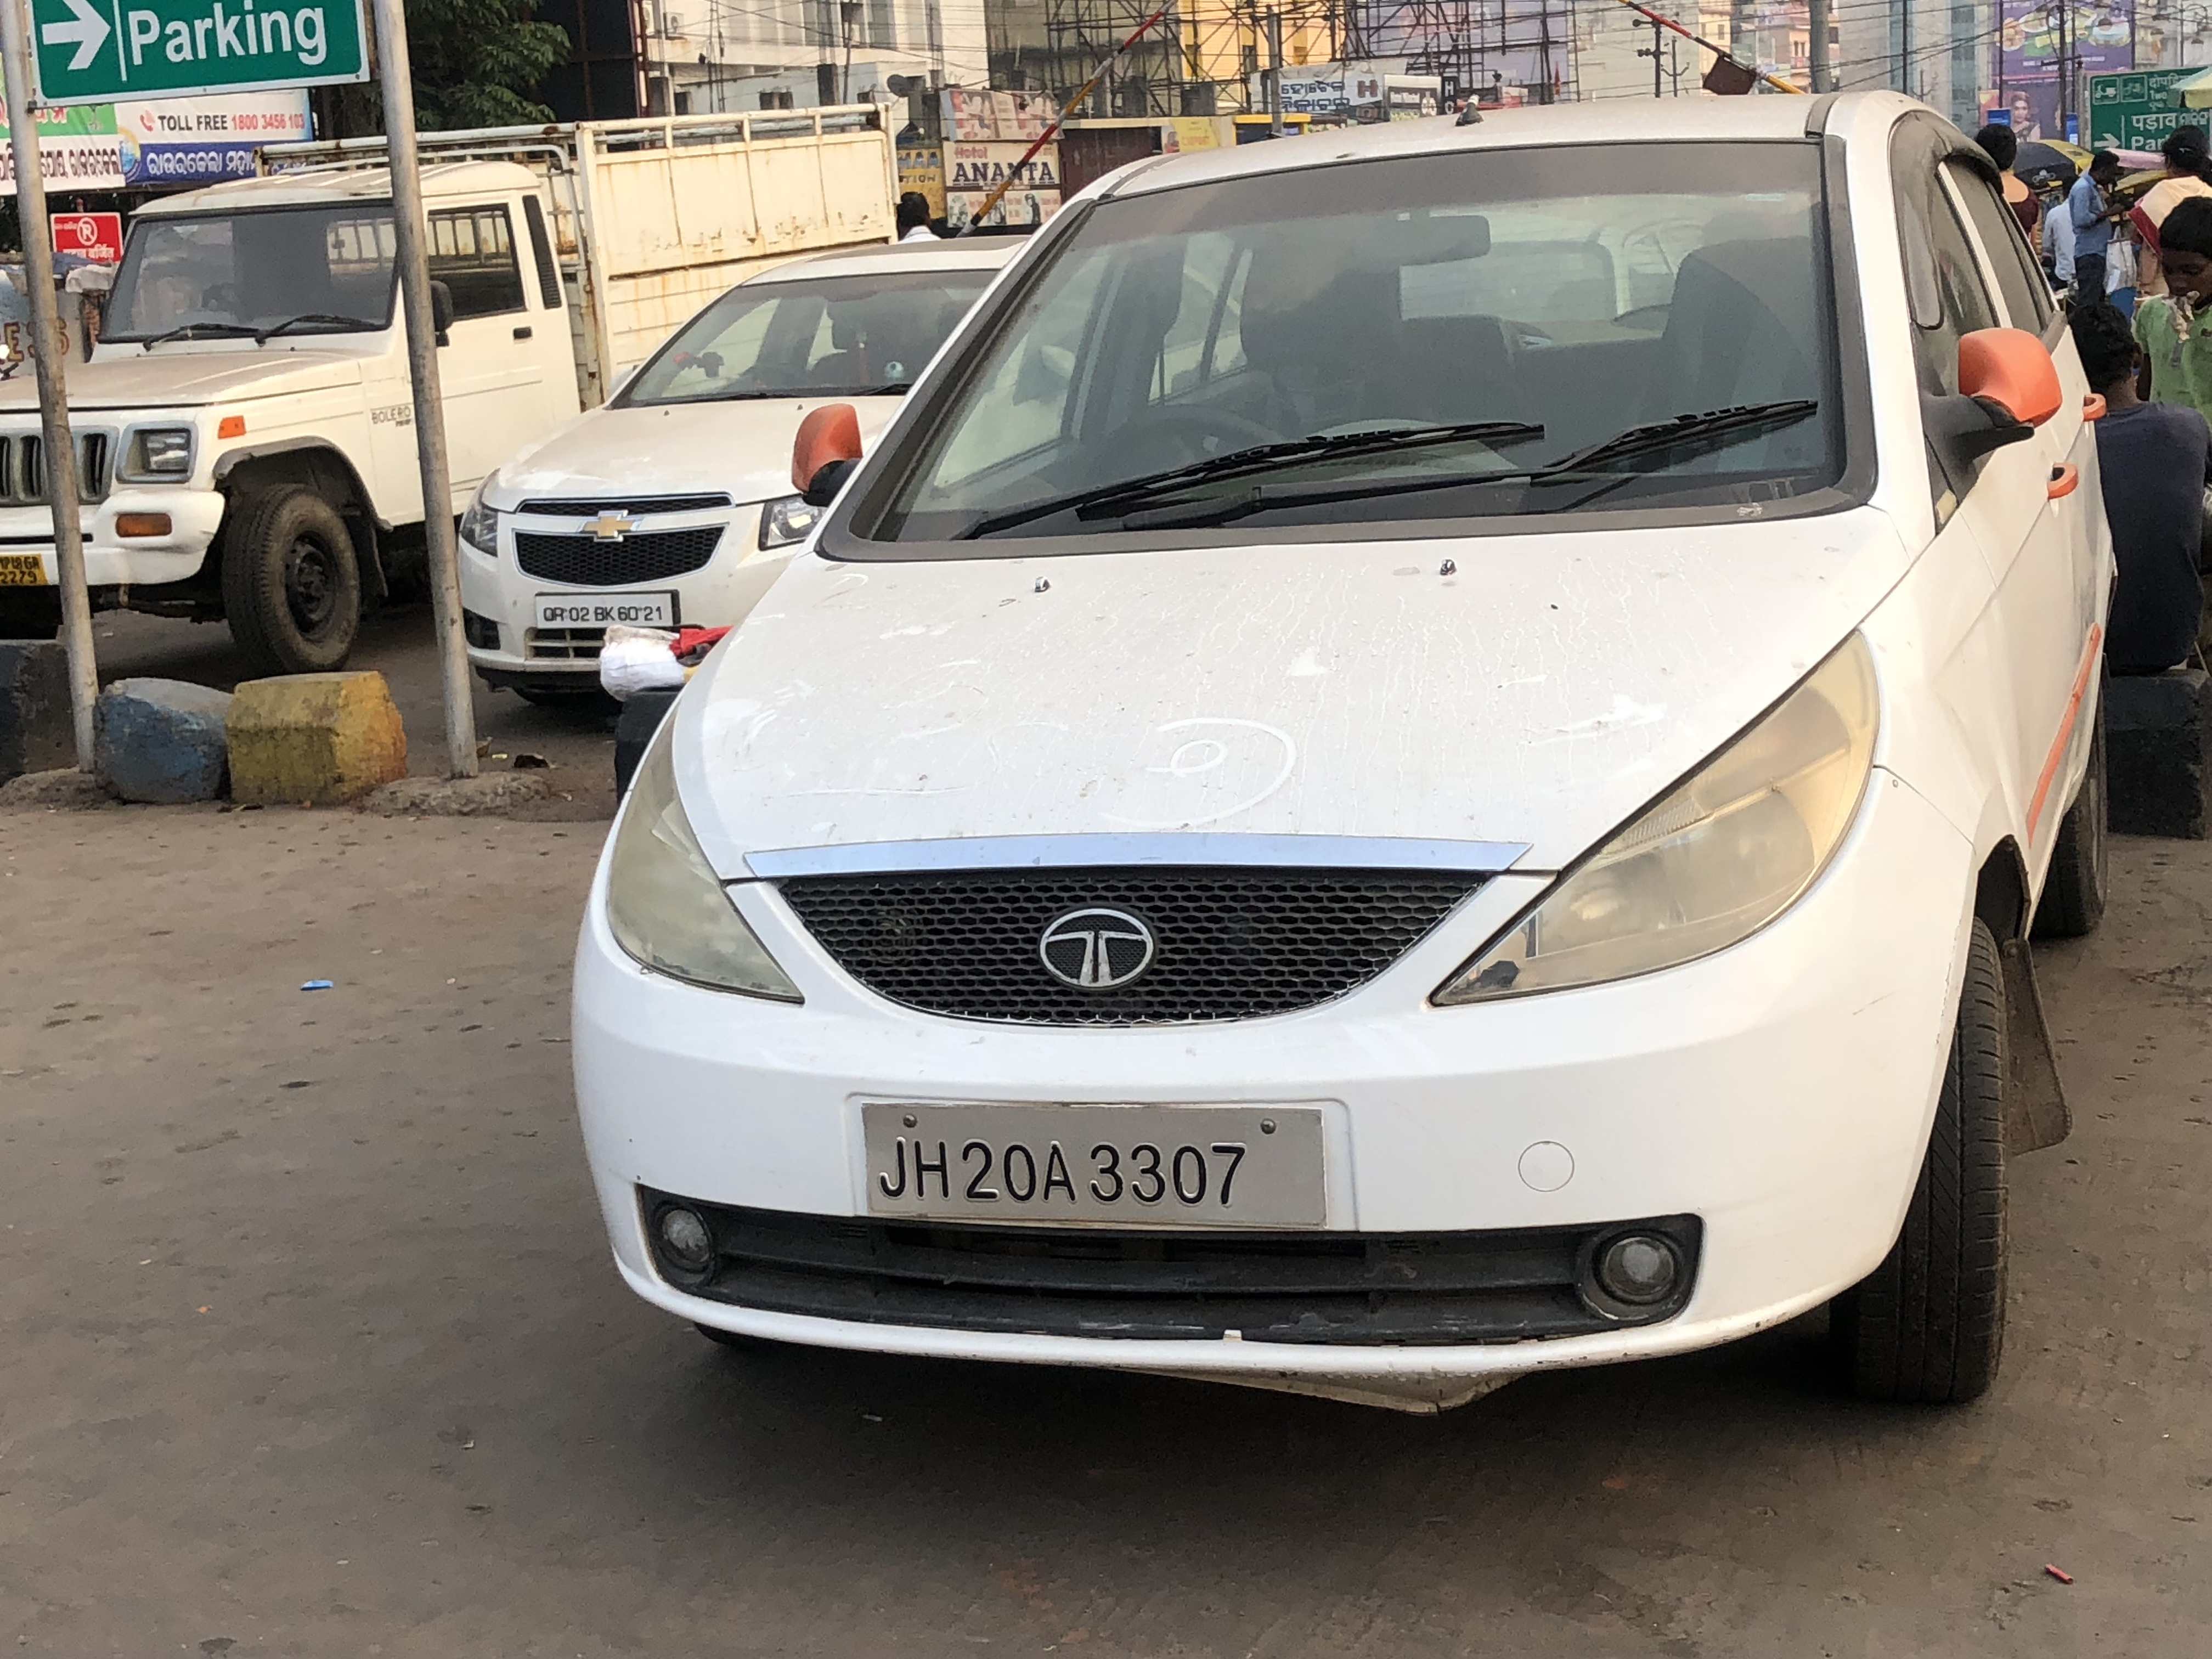licenseplate: (851, 1074, 1333, 1249)
